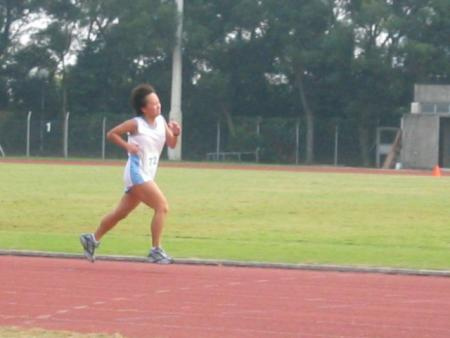person: (81, 86, 181, 265)
